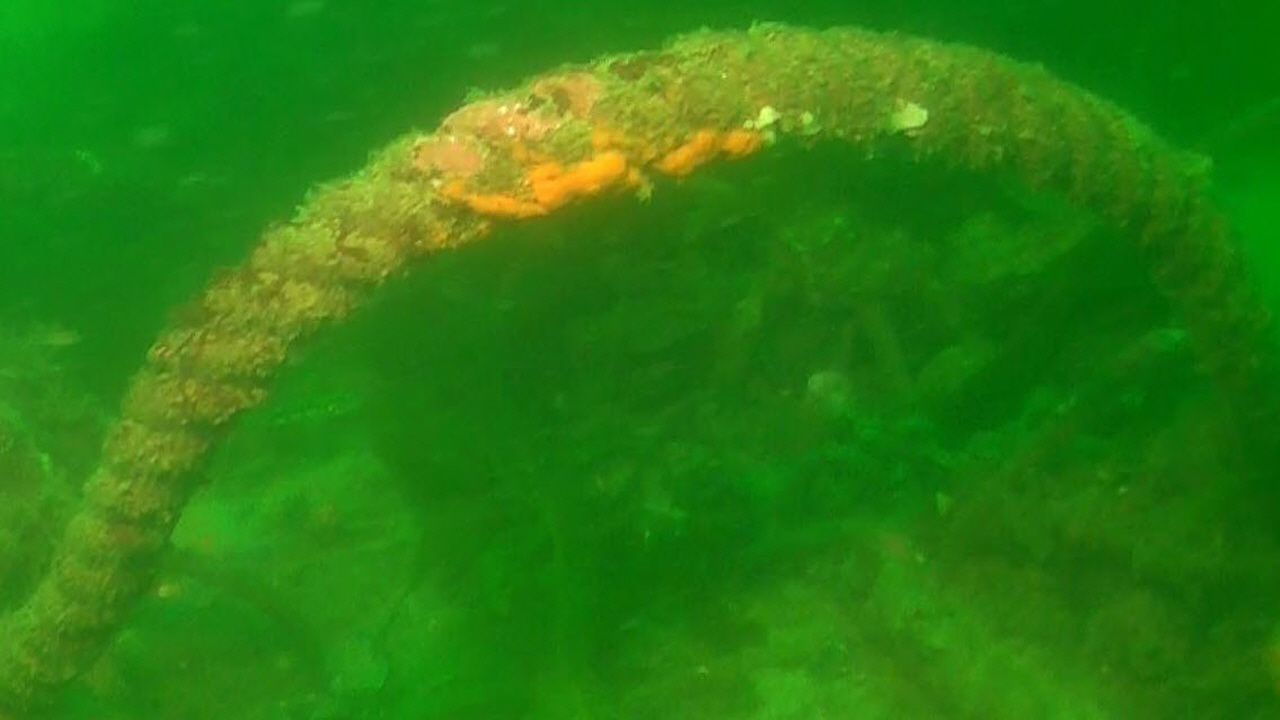rope: (0, 19, 1280, 720)
